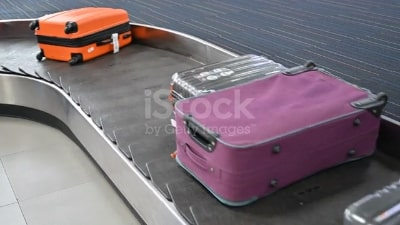baggage: (165, 63, 387, 204), (166, 52, 291, 127), (27, 7, 136, 66)
